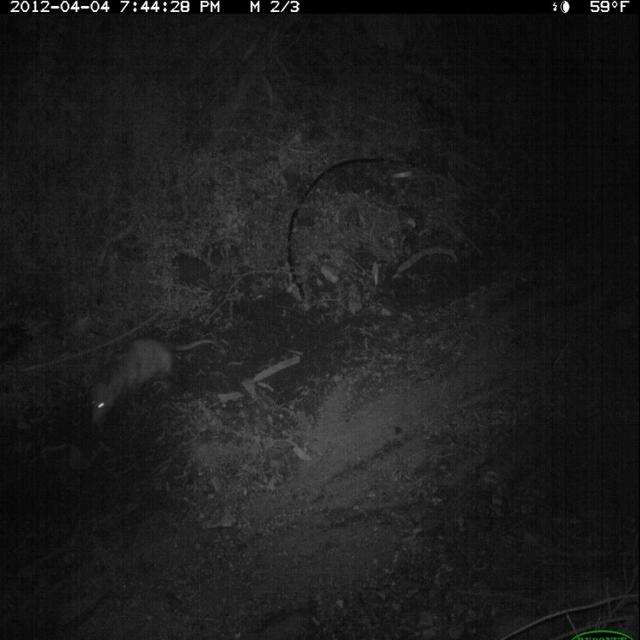opossum: (85, 331, 218, 435)
